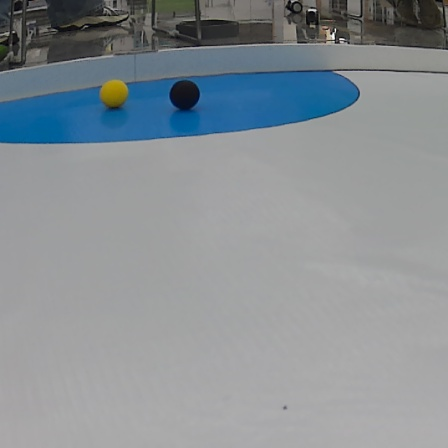black: (168, 80, 200, 109)
blue_base: (0, 67, 368, 143)
yellow: (97, 77, 129, 108)
